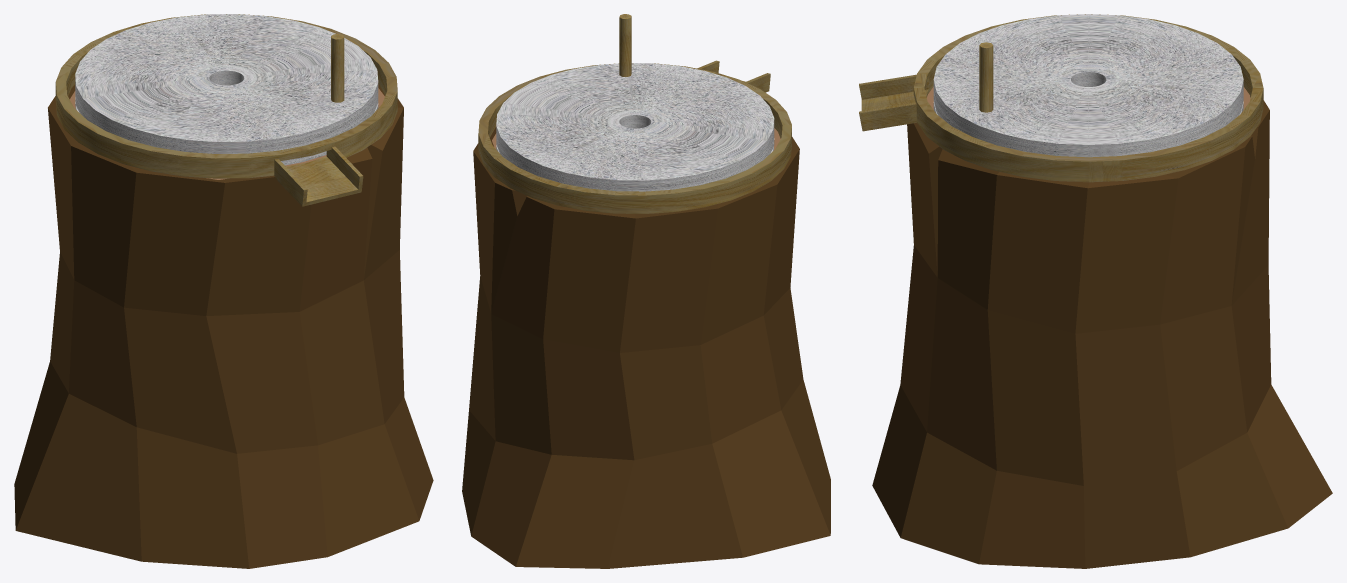
Rendered from grinder.glb.
3 views of the same model, side by side, from view 1: azimuth 30°, elevation 25°; view 2: azimuth 150°, elevation 25°; view 3: azimuth 270°, elevation 25° (orthographic). The views are drawn at different scales.
Visible parts, largest first — view 1: SM_StoneCutting_Prop_WoodStump_01, GrindstoneWheelTop, Drain; view 2: SM_StoneCutting_Prop_WoodStump_01, GrindstoneWheelTop, Drain; view 3: SM_StoneCutting_Prop_WoodStump_01, GrindstoneWheelTop, Drain.
Part boxes in pixels (x1,y1,x2,y2): SM_StoneCutting_Prop_WoodStump_01: (14, 84, 433, 568); GrindstoneWheelTop: (75, 14, 378, 153); Drain: (55, 14, 397, 206); SM_StoneCutting_Prop_WoodStump_01: (462, 127, 830, 568); GrindstoneWheelTop: (496, 14, 774, 191); Drain: (478, 60, 791, 213); SM_StoneCutting_Prop_WoodStump_01: (872, 87, 1332, 568); GrindstoneWheelTop: (933, 14, 1243, 157); Drain: (859, 14, 1263, 182).
Bounding box in the file's own units: 0.9446 × 1.12 × 1.01.
Materials: 5 (5 with a texture image).
